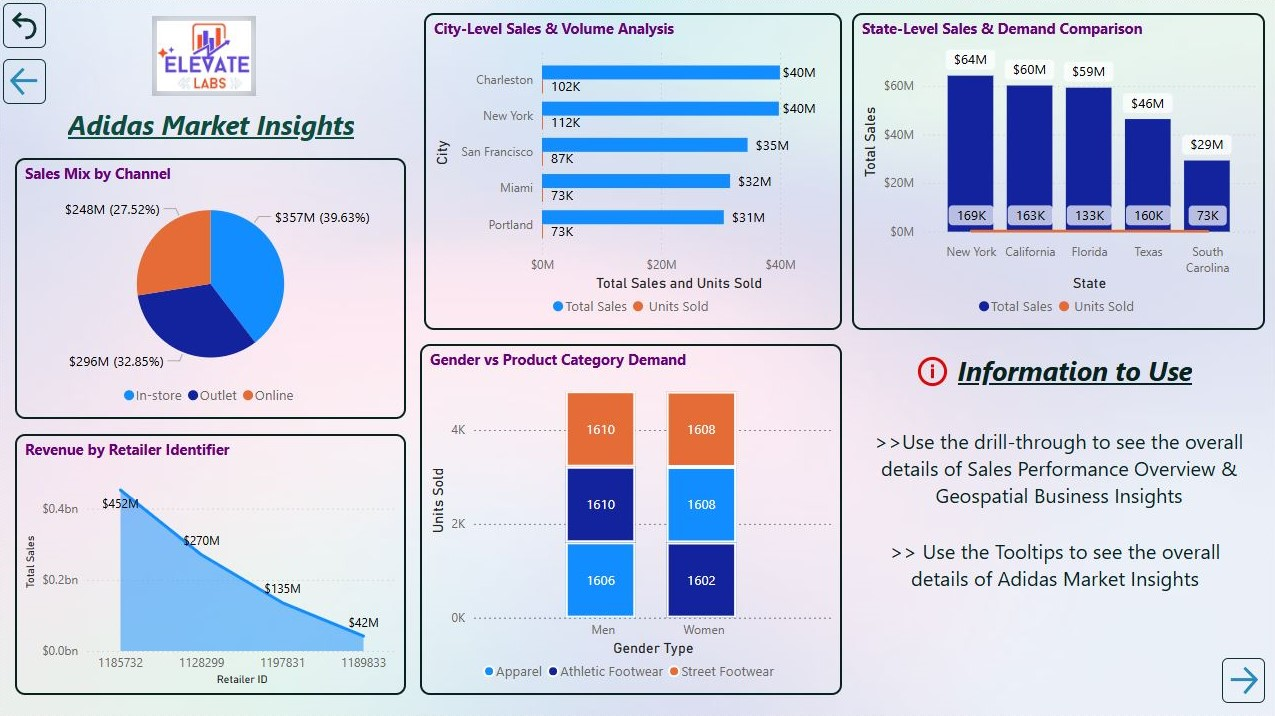

The dashboard page shown, as its layout file describes it:
{"tool":"powerbi","page":{"name":"Adidas Market Insights","canvas":[1280,720],"ordinal":1},"visuals":[{"type":"areaChart","title":"Revenue by Retailer Identifier","fields":{"Category":["Sales_details.Retailer ID"],"Y":["Sum(Sales_details.Total Sales)"]},"box":[18,435,391,261],"z":0},{"type":"pieChart","title":"Sales Mix by Channel","fields":{"Category":["Sales_details.Sales Method"],"Y":["Sum(Sales_details.Total Sales)"]},"box":[18,159,391,261],"z":1000},{"type":"lineStackedColumnComboChart","title":"State-Level Sales & Demand Comparison","fields":{"Category":["Sales_details.State"],"Y":["Sum(Sales_details.Total Sales)"],"Y2":["Sum(Sales_details.Units Sold)"]},"box":[855,14,413,317],"z":2000},{"type":"clusteredBarChart","title":"City-Level Sales & Volume Analysis","fields":{"Category":["Sales_details.City"],"Y":["Sum(Sales_details.Total Sales)","Sum(Sales_details.Units Sold)"]},"box":[427,14,418,317],"z":3000},{"type":"ribbonChart","title":"Gender vs Product Category Demand","fields":{"Category":["Sales_details.Gender Type"],"Y":["CountNonNull(Sales_details.Units Sold)"],"Series":["Sales_details.Product Category"]},"box":[423,345,422,351],"z":4000},{"type":"actionButton","box":[955,345,246,52],"z":5000},{"type":"actionButton","box":[916,348,39,49],"z":6000},{"type":"actionButton","box":[871,407,382,122],"z":7000},{"type":"actionButton","box":[881,507,354,116],"z":8000},{"type":"actionButton","box":[34,99,360,52],"z":9000},{"type":"image","box":[155,17,104,80],"z":10000},{"type":"actionButton","box":[6,4,43,45],"z":11000},{"type":"actionButton","box":[6,60,43,45],"z":12000},{"type":"actionButton","box":[1225,659,43,45],"z":13000}]}

Visuals, with their boxes in screenshot pixels (x1, y1, x2, y2), scaled from the page's 1280x720 canvas onto the 1275x716 screenshot:
"Revenue by Retailer Identifier" areaChart: rect(18, 433, 407, 692)
"Sales Mix by Channel" pieChart: rect(18, 158, 407, 418)
"State-Level Sales & Demand Comparison" lineStackedColumnComboChart: rect(852, 14, 1263, 329)
"City-Level Sales & Volume Analysis" clusteredBarChart: rect(425, 14, 842, 329)
"Gender vs Product Category Demand" ribbonChart: rect(421, 343, 842, 692)
actionButton: rect(951, 343, 1196, 395)
actionButton: rect(912, 346, 951, 395)
actionButton: rect(868, 405, 1248, 526)
actionButton: rect(878, 504, 1230, 620)
actionButton: rect(34, 98, 392, 150)
image: rect(154, 17, 258, 96)
actionButton: rect(6, 4, 49, 49)
actionButton: rect(6, 60, 49, 104)
actionButton: rect(1220, 655, 1263, 700)
